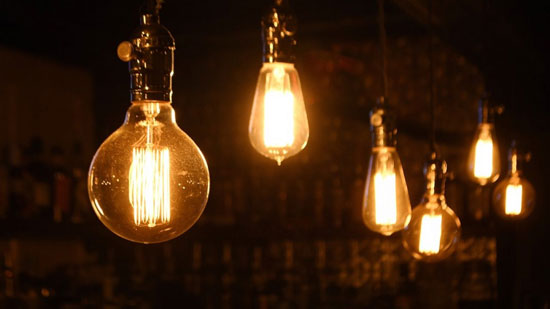Light_bulb: (75, 78, 218, 251), (244, 54, 313, 167), (360, 140, 416, 241)
